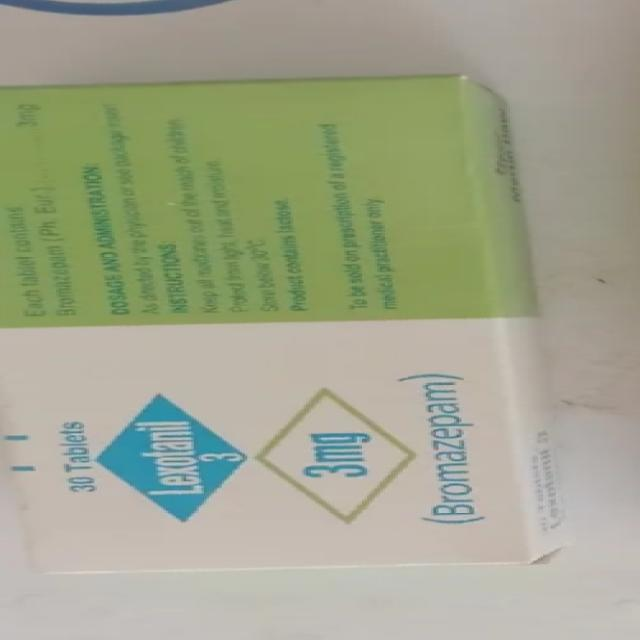drug-name: (134, 406, 245, 502)
